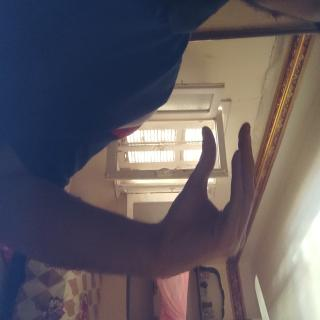JEEM: (88, 77, 215, 233)
